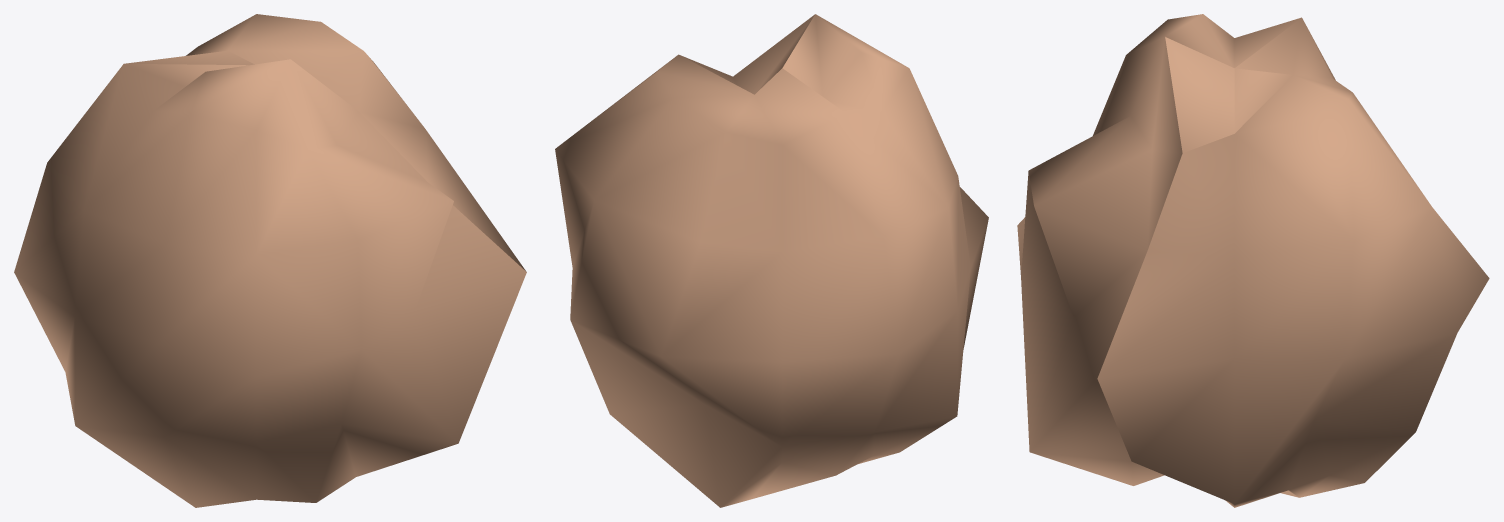
The model's file is rock_014.fbx.
The picture shows the model from 3 angles, left to right: view 1: azimuth 30°, elevation 25°; view 2: azimuth 150°, elevation 25°; view 3: azimuth 270°, elevation 25°; orthographic projection. The views are drawn at different scales.
Visible parts, largest first — view 1: Rock; view 2: Rock; view 3: Rock.
Boxes of the visible parts, left/top/right/bottom form: Rock: left=14, top=14, right=526, bottom=507; Rock: left=555, top=14, right=988, bottom=507; Rock: left=1017, top=14, right=1489, bottom=507.
Bounding box in the file's own units: 3.16 × 3.56 × 3.3.
